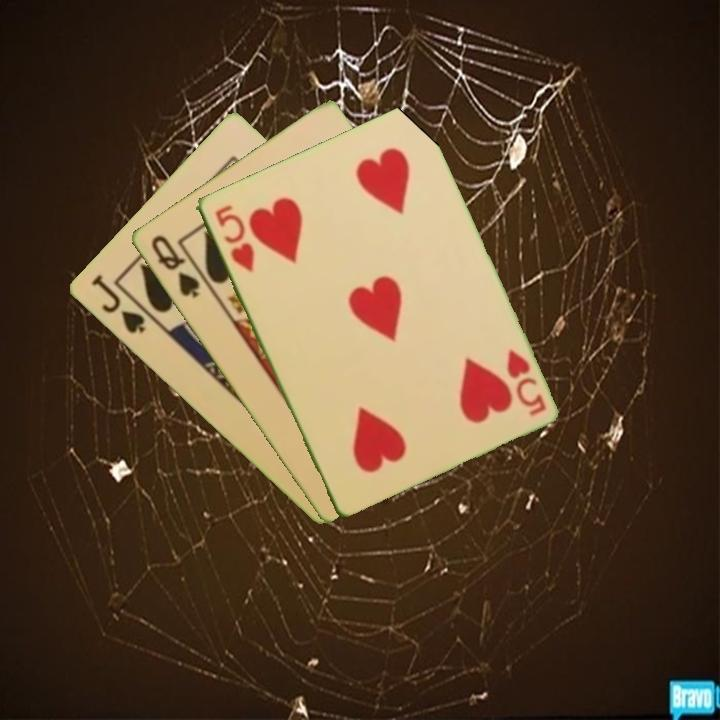5h: (502, 345, 549, 419), (211, 201, 257, 275)
Js: (87, 271, 148, 337)
Qs: (146, 231, 203, 301)
